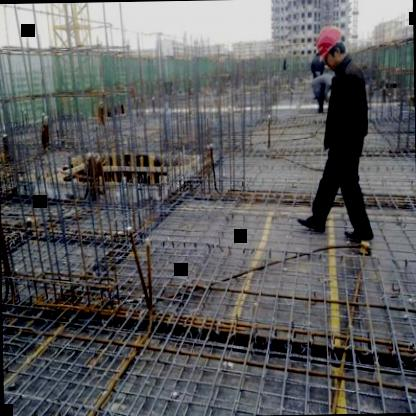helmet: (313, 22, 348, 72)
